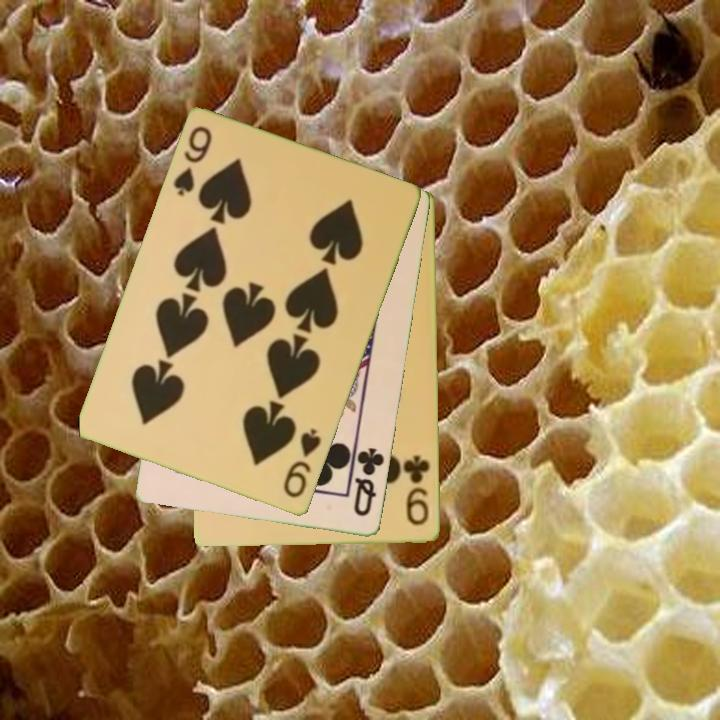9c: (402, 452, 433, 529)
9s: (280, 425, 325, 502), (170, 123, 215, 200)
Qc: (350, 444, 388, 520)
